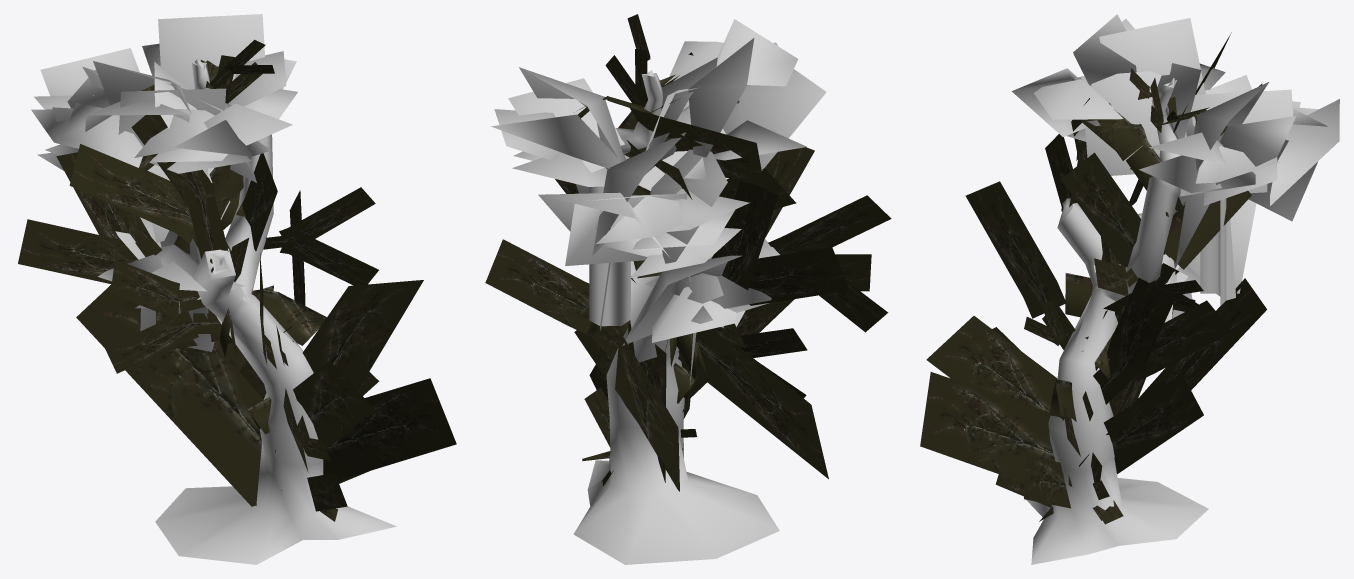
Rendered from tree6.FBX.
The picture shows the model from 3 angles, left to right: view 1: azimuth 30°, elevation 25°; view 2: azimuth 150°, elevation 25°; view 3: azimuth 270°, elevation 25°; orthographic projection. The views are drawn at different scales.
Parts seen in each view (by area): view 1: Tree6; view 2: Tree6; view 3: Tree6.
Part boxes in pixels (bbox=[...]): Tree6: bbox=[18, 14, 456, 564]; Tree6: bbox=[485, 14, 891, 564]; Tree6: bbox=[920, 14, 1339, 564].
Size of the model in its own units: 196 by 277 by 231.
